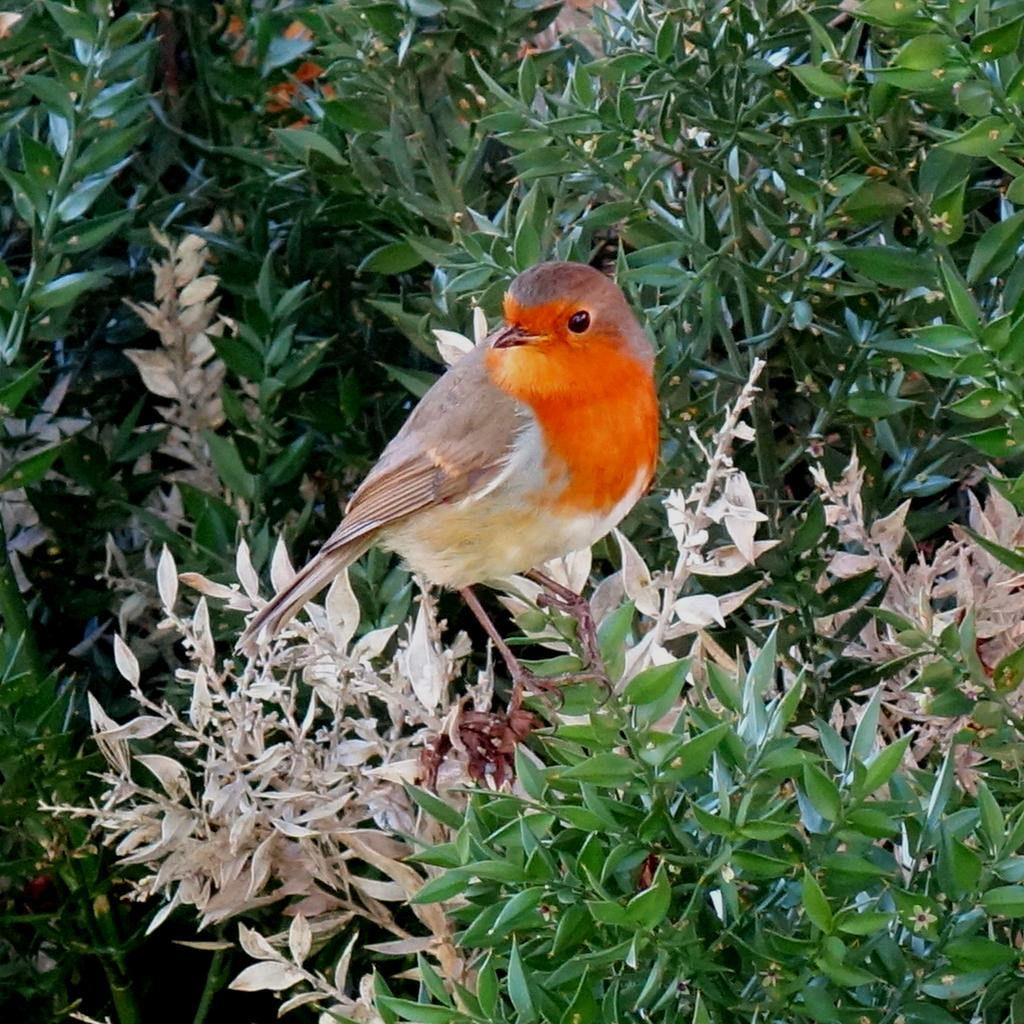ErithacusRubecula: (232, 261, 661, 715)
